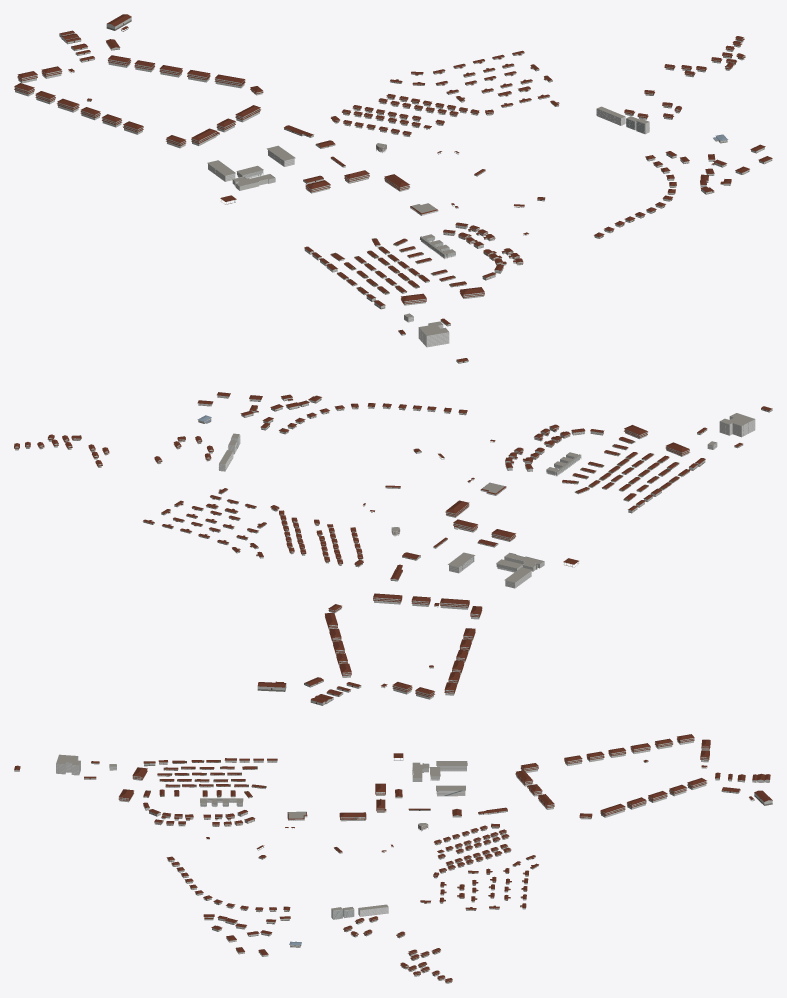
File: ciudad_alto.glb
The picture shows the model from 3 angles, top to bottom: view 1: azimuth 30°, elevation 25°; view 2: azimuth 150°, elevation 25°; view 3: azimuth 270°, elevation 25°; orthographic projection. The views are drawn at different scales.
Visible parts, largest first — view 1: alto; view 2: alto; view 3: alto.
Boxes of the visible parts, box(x1,y1,x2,y2) form: alto: box(418, 321, 449, 347); alto: box(719, 413, 755, 437); alto: box(56, 754, 80, 775).
Bounding box in the file's own units: 1499 × 45.64 × 1900.
